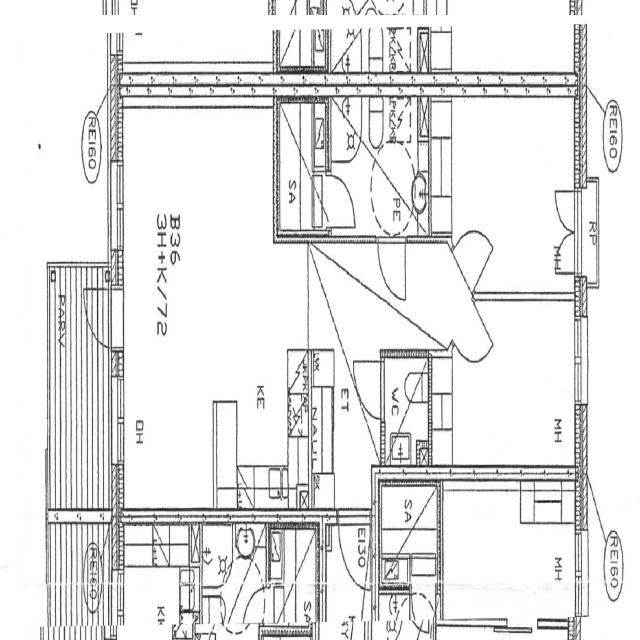door: (337, 512, 370, 591), (376, 230, 409, 308), (322, 166, 358, 234), (355, 357, 385, 421), (552, 210, 579, 276), (550, 182, 580, 240), (85, 287, 112, 349), (242, 585, 267, 627)
window: (571, 310, 590, 413), (108, 157, 126, 256), (572, 182, 590, 279), (536, 616, 570, 637), (506, 618, 537, 634)
zone: (440, 94, 576, 292), (438, 297, 584, 470), (438, 485, 580, 629), (116, 517, 196, 636), (365, 93, 429, 236), (326, 92, 383, 233), (378, 480, 440, 585), (382, 355, 431, 466), (277, 98, 315, 237), (270, 523, 318, 631), (200, 520, 234, 595)
